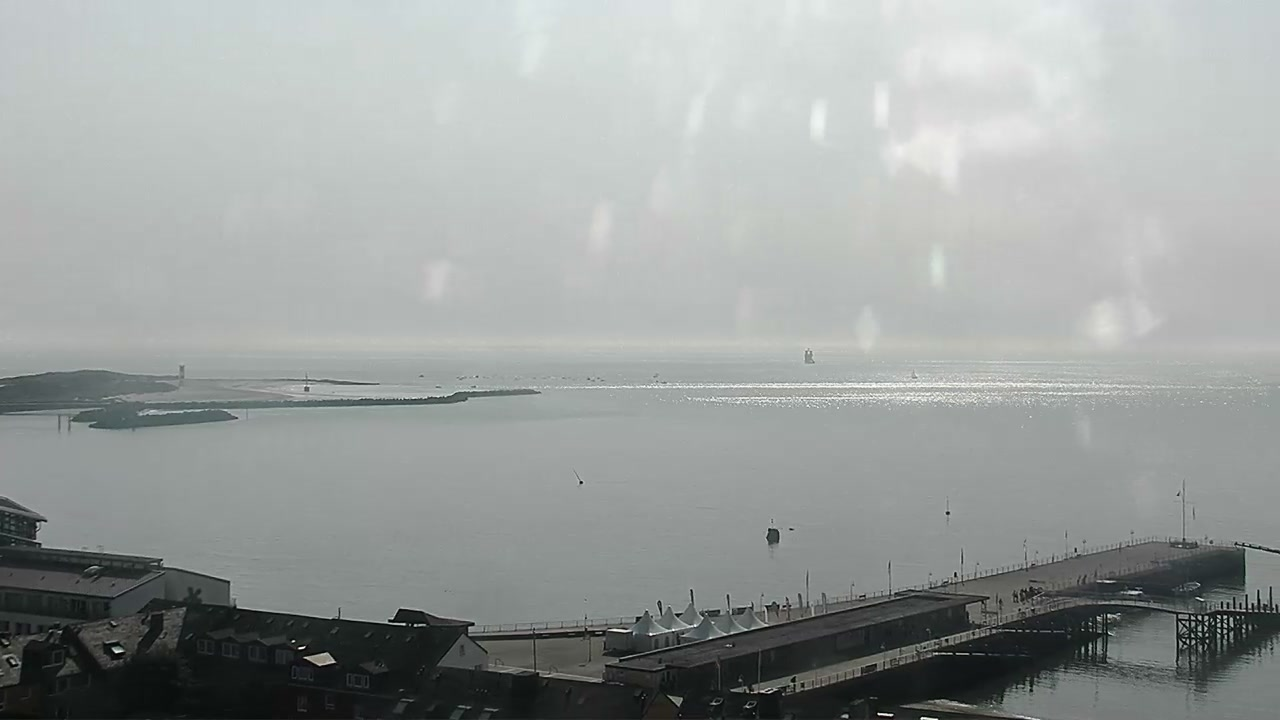human: (790, 674, 797, 691), (927, 572, 934, 588), (1020, 585, 1027, 600), (1011, 588, 1017, 602), (1016, 587, 1021, 602)
sea: (1171, 579, 1202, 597), (803, 348, 815, 365), (910, 368, 919, 380)
